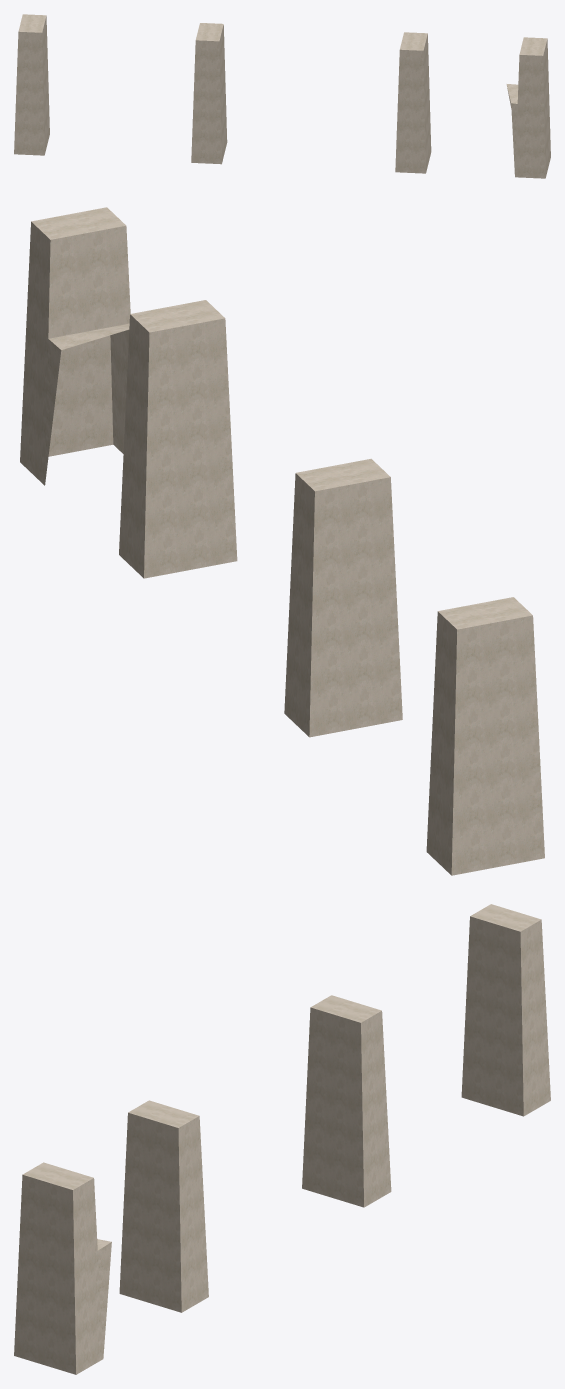
The model's file is des_railbr_twr1.obj.
3 views of the same model, one above another, from view 1: azimuth 30°, elevation 25°; view 2: azimuth 150°, elevation 25°; view 3: azimuth 270°, elevation 25° (orthographic). The views are drawn at different scales.
Visible parts, largest first — view 1: des_railbr_twr1; view 2: des_railbr_twr1; view 3: des_railbr_twr1.
Boxes of the visible parts, <box> form: des_railbr_twr1: <box>14,14,550,178</box>; des_railbr_twr1: <box>20,207,544,875</box>; des_railbr_twr1: <box>14,904,550,1374</box>.
Bounding box in the file's own units: 155 × 44.6 × 120.
1 material, 1 textured.
